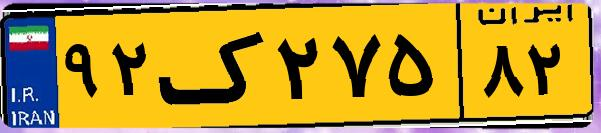2: (270, 28, 330, 110), (525, 38, 570, 115), (110, 28, 158, 98)
5: (385, 28, 445, 110)
7: (330, 28, 385, 110)
8: (475, 38, 525, 113)
9: (57, 26, 110, 100)
ک: (158, 12, 270, 120)
